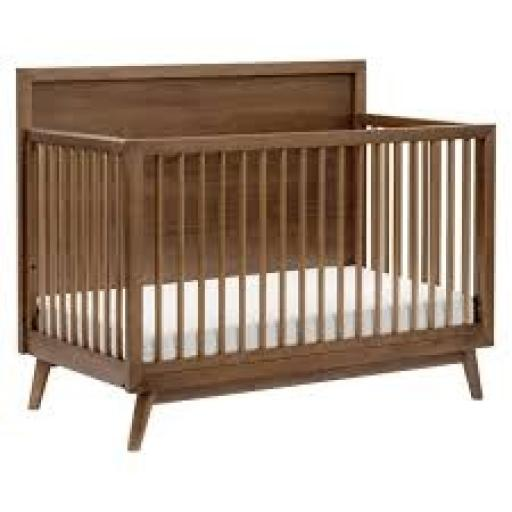crib: (19, 62, 493, 448)
